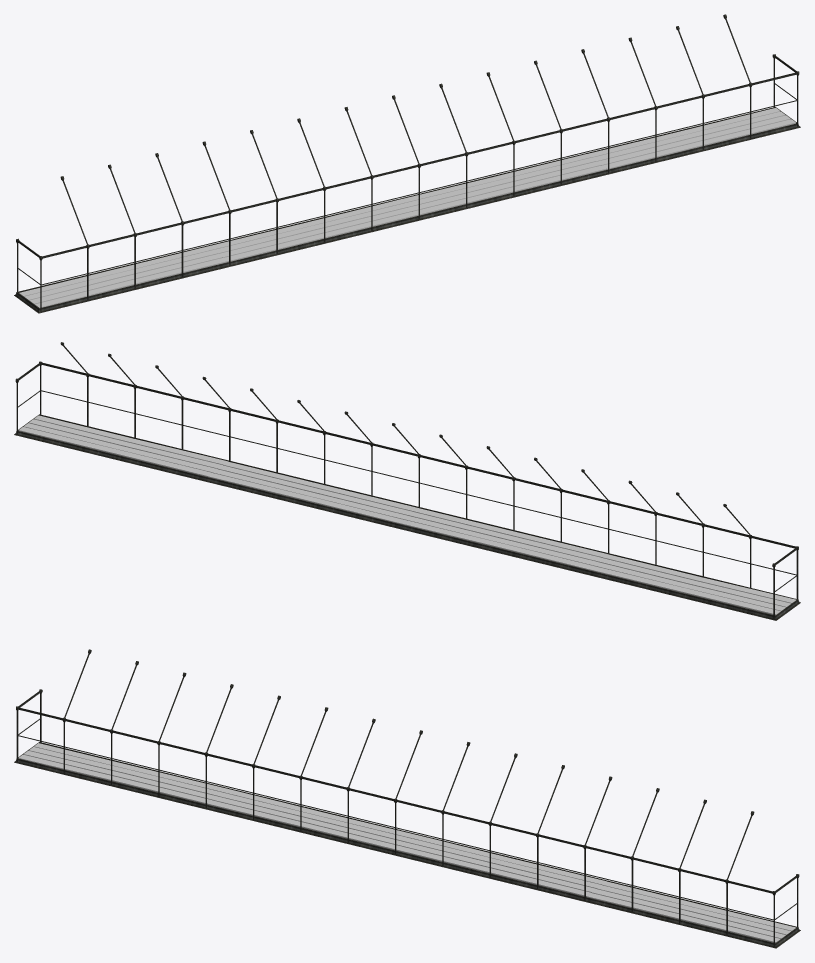
The model's file is tesla_structure_catwalk_ladder_01.dae.
3 views of the same model, one above another, from view 1: azimuth 30°, elevation 25°; view 2: azimuth 150°, elevation 25°; view 3: azimuth 330°, elevation 25° (orthographic).
Parts seen in each view (by area): view 1: polySurface149, polySurface148; view 2: polySurface149, polySurface148; view 3: polySurface149, polySurface148.
Part boxes in pixels (bbox=[...]): polySurface149: bbox=[19, 108, 795, 307]; polySurface148: bbox=[14, 14, 800, 313]; polySurface149: bbox=[18, 415, 796, 615]; polySurface148: bbox=[14, 342, 800, 620]; polySurface149: bbox=[18, 743, 796, 942]; polySurface148: bbox=[14, 649, 800, 948].
Size of the model in its own units: 40.26 by 5.34 by 2.46.
